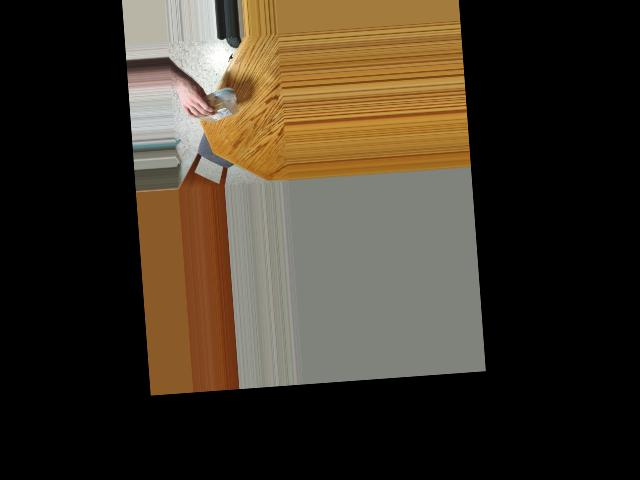cheese: (186, 86, 225, 122)
